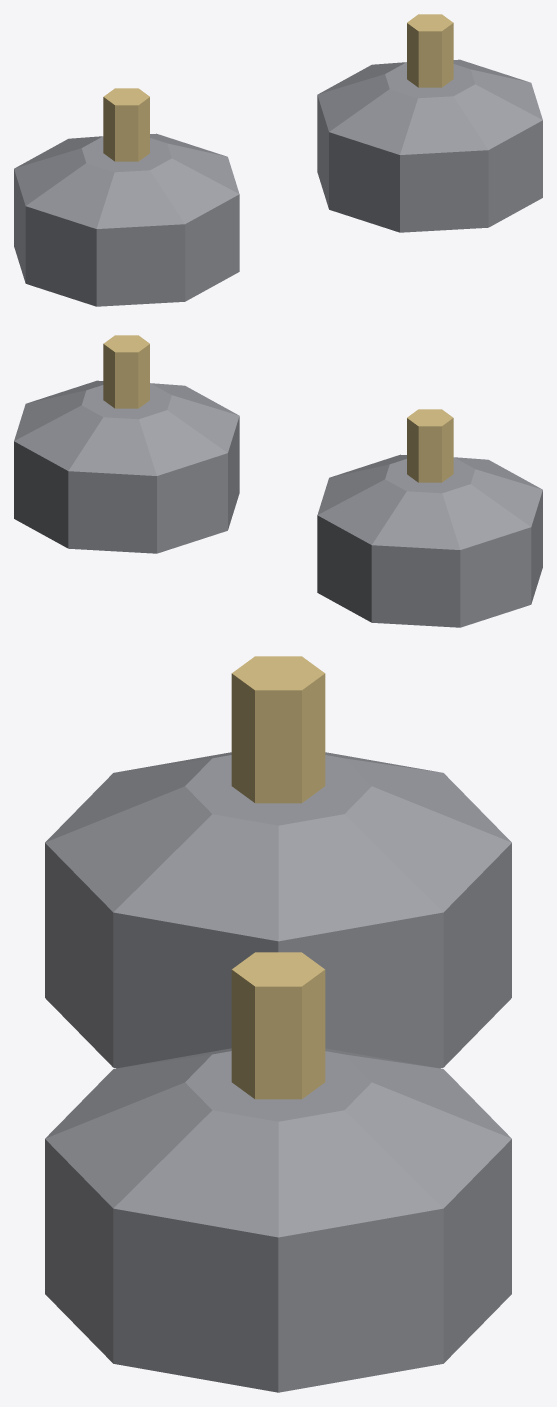
Rendered from prop-chart-weight.fbx.
3 views of the same model, one above another, from view 1: azimuth 30°, elevation 25°; view 2: azimuth 150°, elevation 25°; view 3: azimuth 270°, elevation 25° (orthographic). The views are drawn at different scales.
Parts seen in each view (by area): view 1: prop-chart-weight; view 2: prop-chart-weight; view 3: prop-chart-weight.
Boxes of the visible parts, x1,y1,x2,y2 form: prop-chart-weight: (14, 14, 542, 306); prop-chart-weight: (14, 335, 542, 627); prop-chart-weight: (45, 656, 511, 1392).
Bounding box in the file's own units: 15 × 4.6 × 6.
